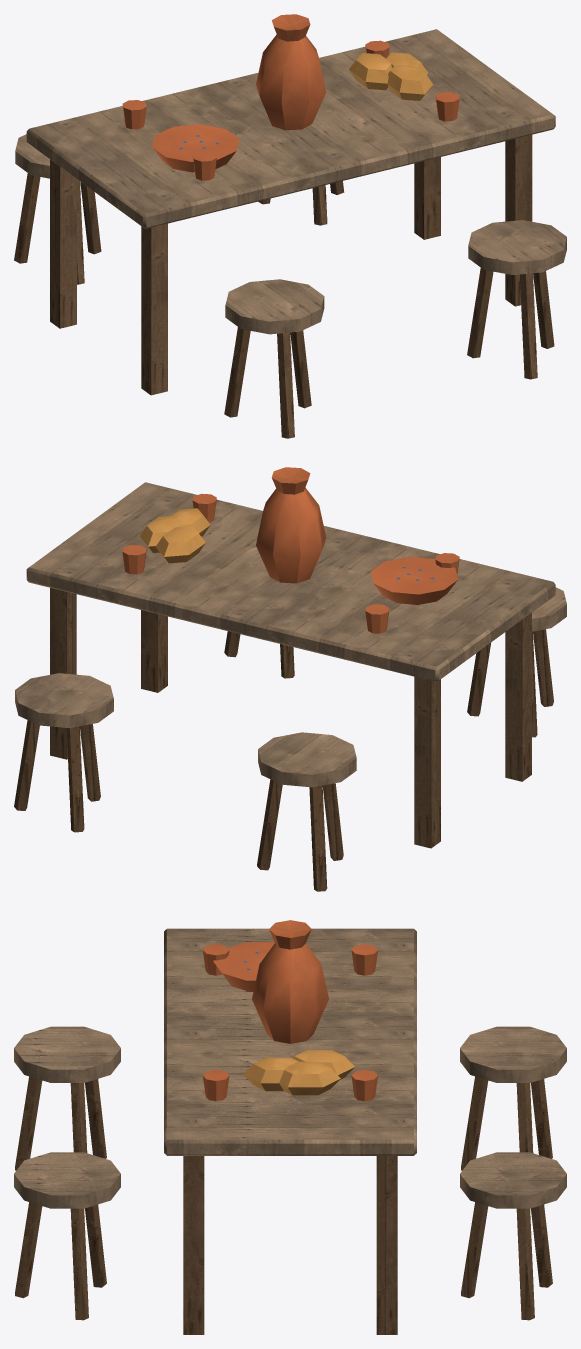
The model's file is decor_dining-set_t1.glb.
3 views of the same model, one above another, from view 1: azimuth 30°, elevation 25°; view 2: azimuth 150°, elevation 25°; view 3: azimuth 270°, elevation 25° (orthographic). The views are drawn at different scales.
Visible parts, largest first — view 1: wood, wood_dark, terracotta, bread; view 2: wood, wood_dark, terracotta, bread; view 3: wood, wood_dark, terracotta, bread.
Part boxes in pixels (x1,y1,x2,y2): wood: [15, 29, 566, 334]; wood_dark: [14, 135, 554, 438]; terracotta: [122, 14, 459, 180]; bread: [349, 52, 432, 100]; wood: [15, 482, 566, 787]; wood_dark: [14, 588, 553, 891]; terracotta: [122, 467, 459, 633]; bread: [139, 508, 210, 563]; wood: [14, 928, 566, 1208]; wood_dark: [15, 1076, 552, 1334]; terracotta: [203, 920, 377, 1101]; bread: [243, 1050, 354, 1095].
Size of the model in its own units: 1.7 by 1.14 by 1.86.
Materials: 5 (5 with a texture image).
